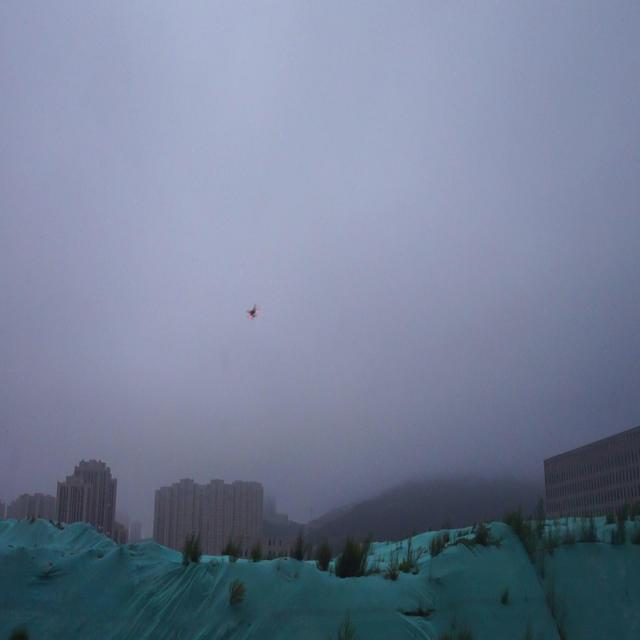UAV: (247, 304, 260, 320)
